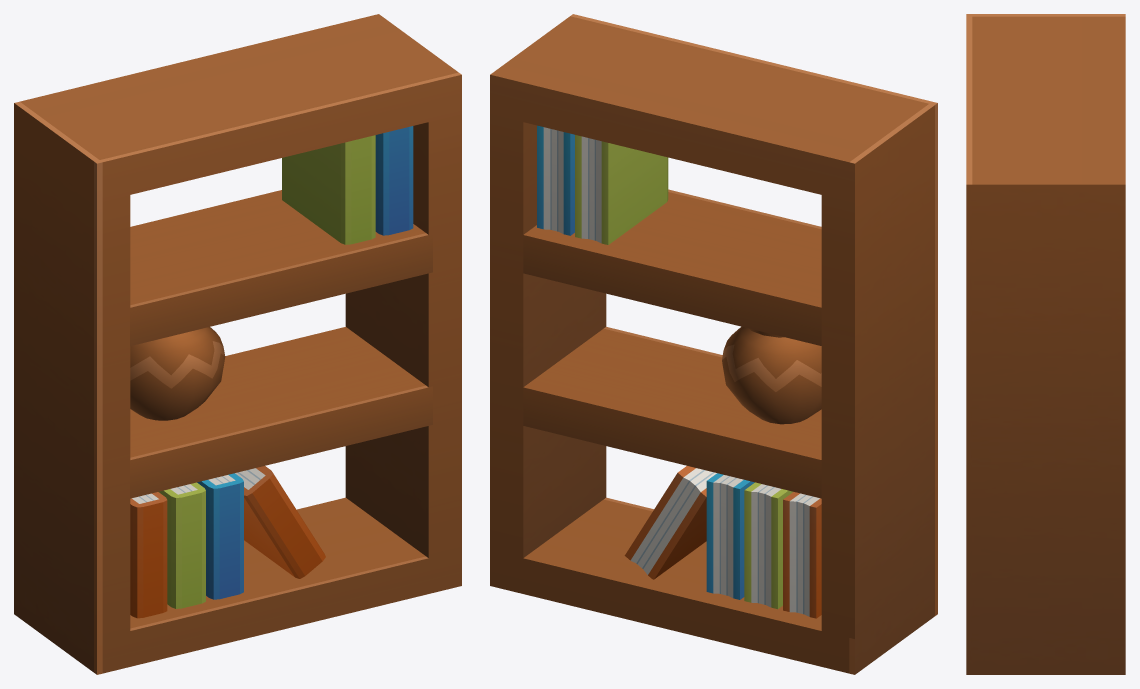
File: BookShelfA.FBX
3 renders of one model, left to right at view 1: azimuth 30°, elevation 25°; view 2: azimuth 150°, elevation 25°; view 3: azimuth 270°, elevation 25°, orthographic. The views are drawn at different scales.
Parts seen in each view (by area): view 1: ShelfA; view 2: ShelfA; view 3: ShelfA.
Part boxes in pixels (box(x1,y1,x2,y2)): ShelfA: box(14, 14, 461, 674); ShelfA: box(490, 14, 937, 674); ShelfA: box(966, 14, 1125, 674).
Size of the model in its own units: 0.9308 by 1.25 by 0.3666.
